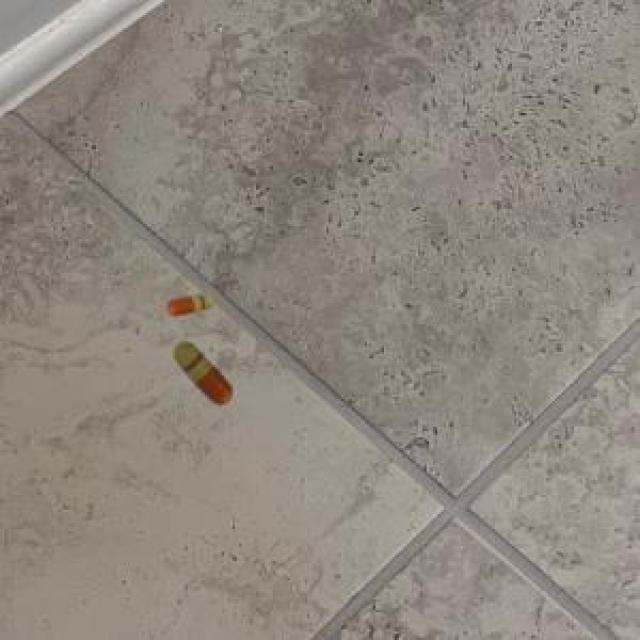Alaxan: (168, 330, 240, 410), (164, 288, 212, 324)
